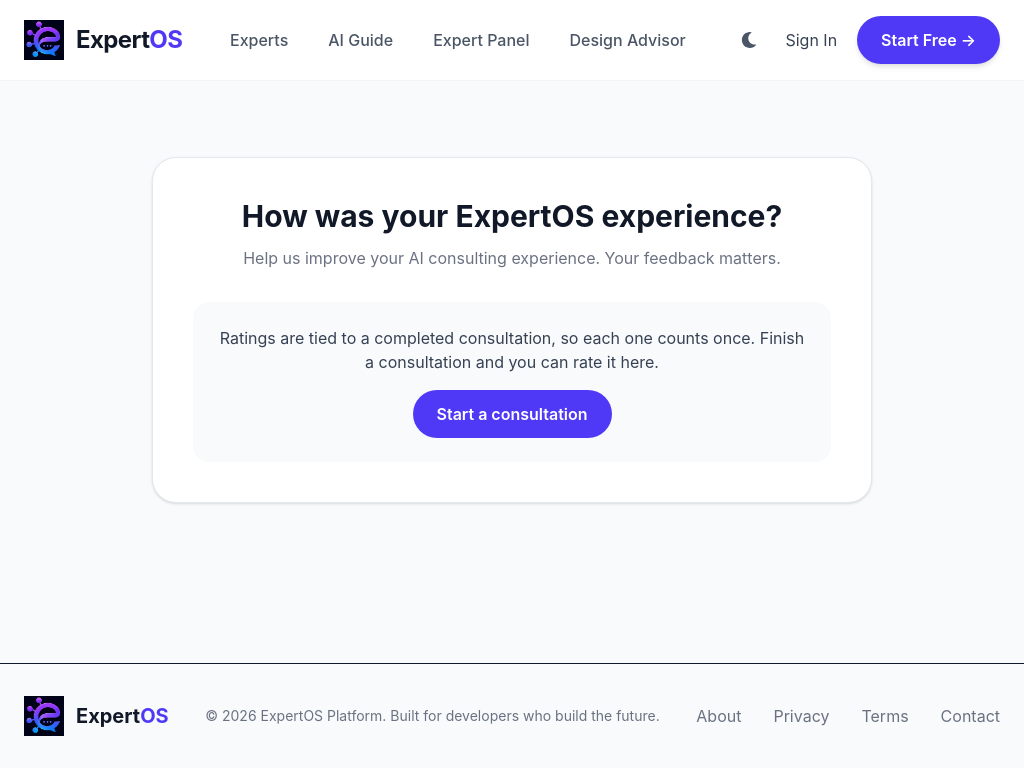
Test: Routing and navigation › footer link Privacy opens its page
(page scrolled)
Click the link "Privacy" at (802, 716), box [774,704,830,728]
(page scrolled)
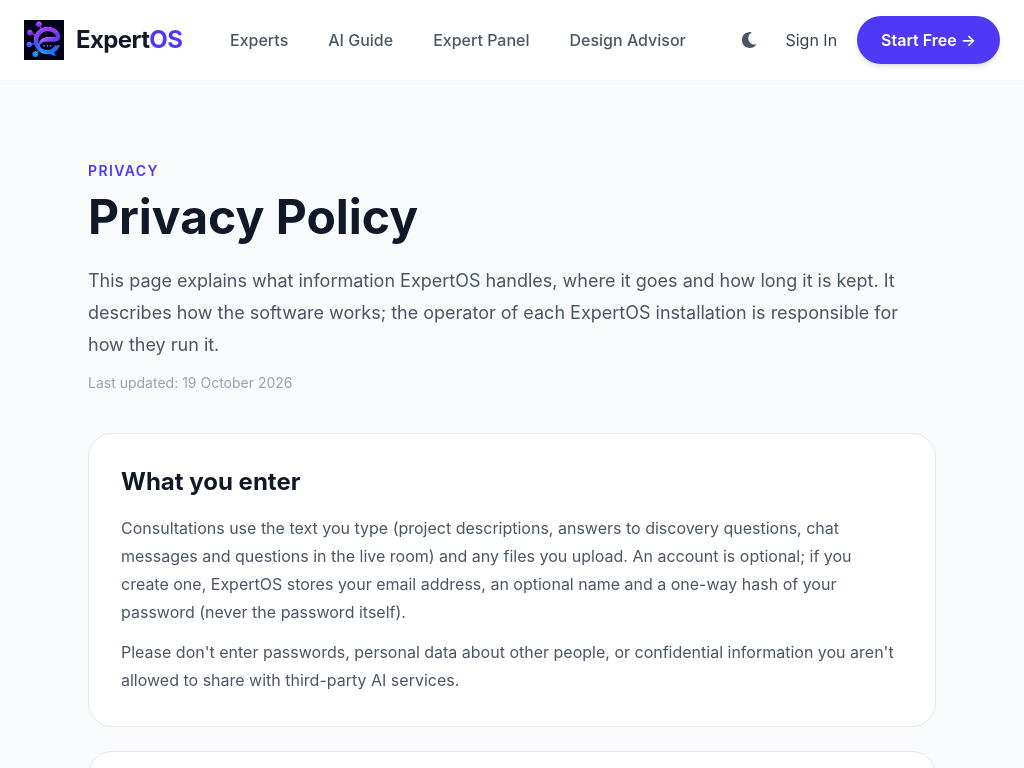
Expected: the heading "Privacy Policy" is shown, [88,187,418,246]
